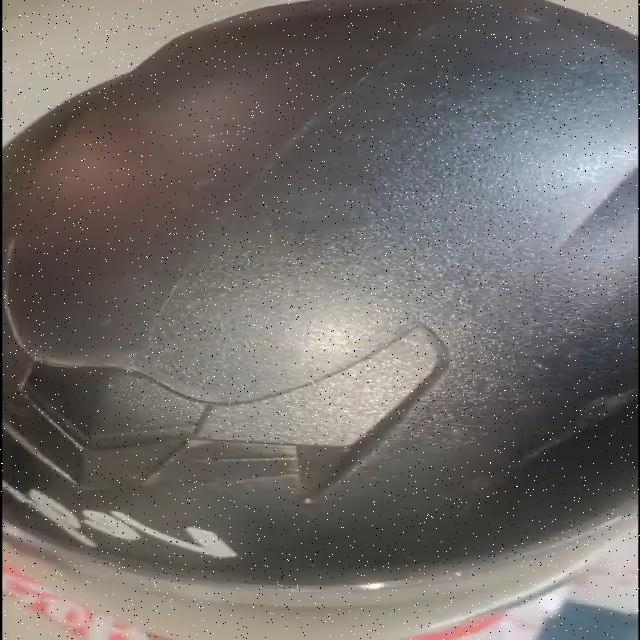Helmet: (4, 0, 635, 640)
